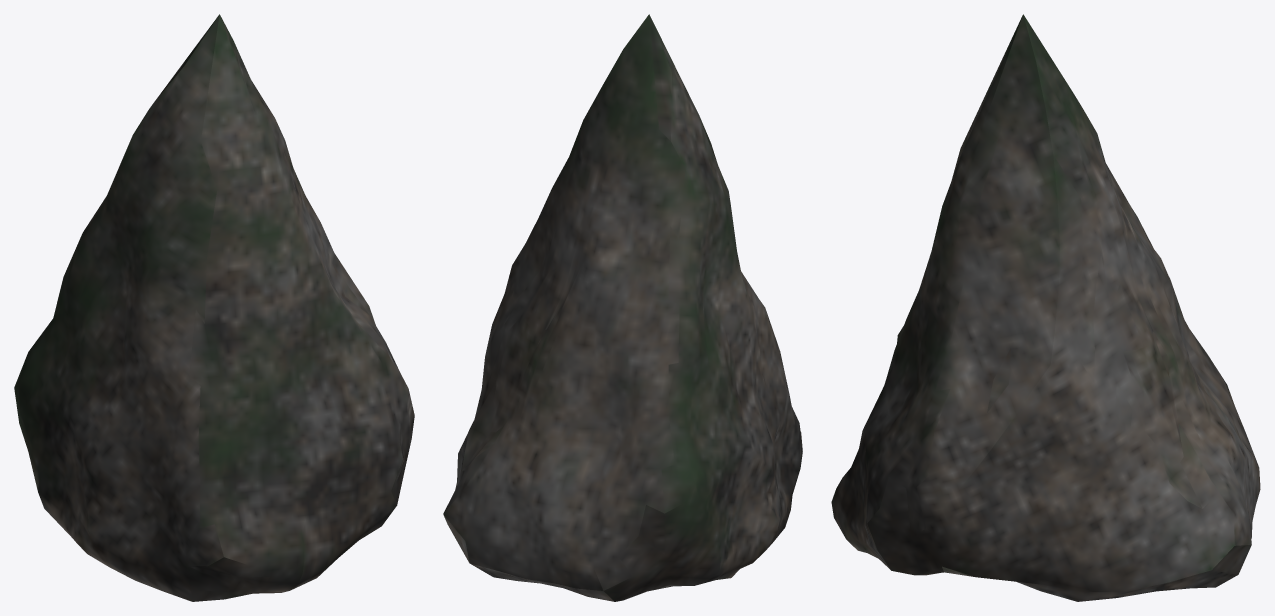
Rendered from Estalactite 2.fbx.
3 views of the same model, side by side, from view 1: azimuth 30°, elevation 25°; view 2: azimuth 150°, elevation 25°; view 3: azimuth 270°, elevation 25° (orthographic). The views are drawn at different scales.
Visible parts, largest first — view 1: rock; view 2: rock; view 3: rock.
Part boxes in pixels (<box>): rock: <box>14,14,414,601</box>; rock: <box>443,14,802,601</box>; rock: <box>831,14,1260,601</box>.
Bounding box in the file's own units: 68.17 × 121 × 84.78.
1 material, 1 textured.
